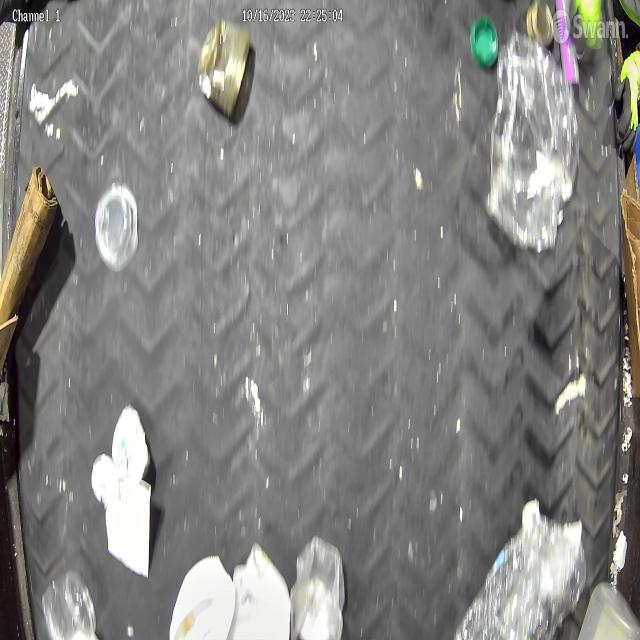can: (198, 20, 250, 117), (526, 0, 554, 47)
milk_jug: (229, 542, 291, 640), (170, 554, 236, 639)
